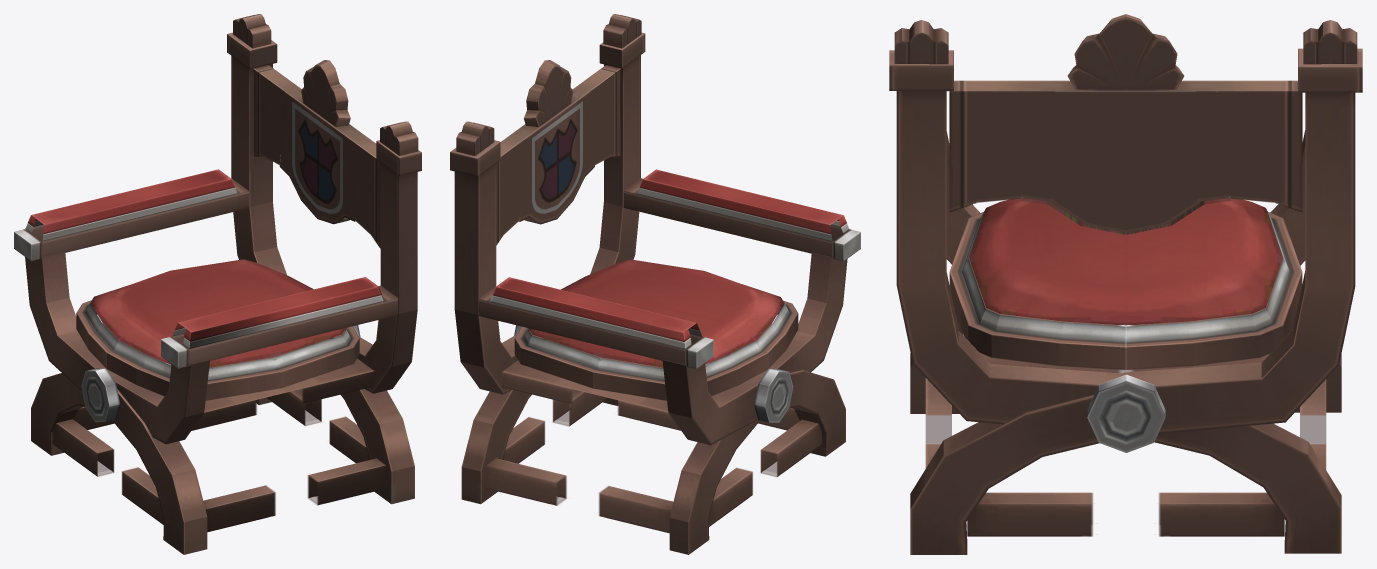
File: my_wildhunt_01_chair_01.glb
3 renders of one model, left to right at view 1: azimuth 30°, elevation 25°; view 2: azimuth 150°, elevation 25°; view 3: azimuth 270°, elevation 25°, orthographic. The views are drawn at different scales.
Parts seen in each view (by area): view 1: my_wildhunt_01_chair_01; view 2: my_wildhunt_01_chair_01; view 3: my_wildhunt_01_chair_01.
Part boxes in pixels (x1=…): my_wildhunt_01_chair_01: x1=14, y1=14, x2=421, y2=554; my_wildhunt_01_chair_01: x1=450, y1=14, x2=860, y2=554; my_wildhunt_01_chair_01: x1=889, y1=14, x2=1362, y2=554.
Bounding box in the file's own units: 0.00396 × 0.00574 × 0.00462.
1 material, 1 textured.
